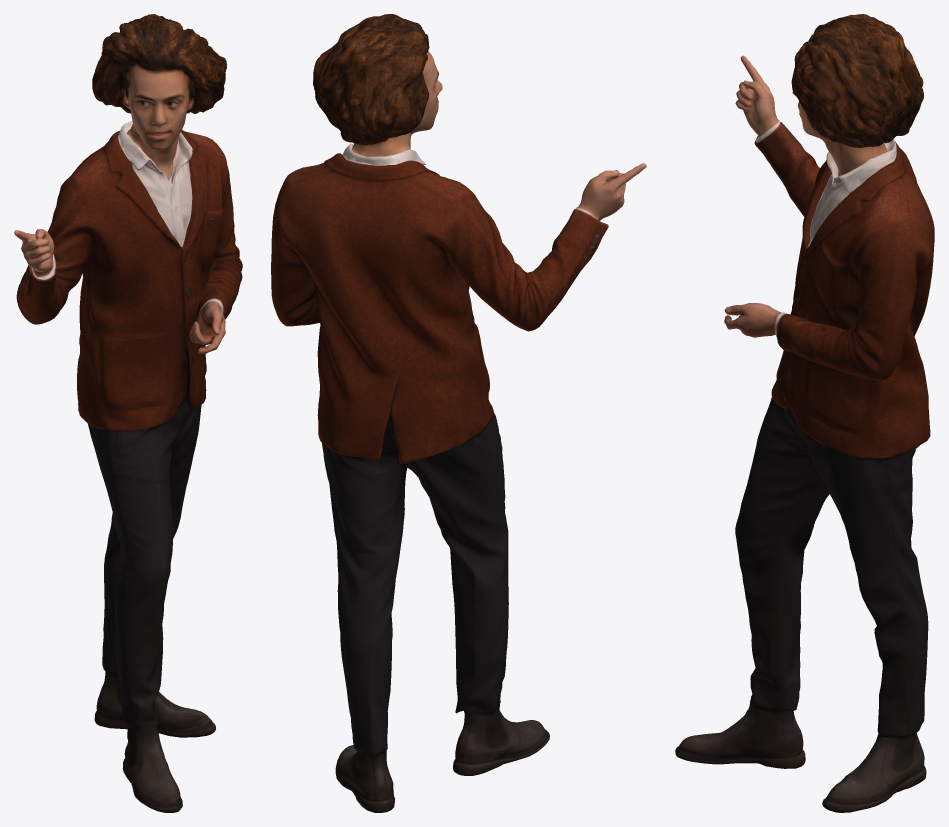
File: profe.fbx
The picture shows the model from 3 angles, left to right: view 1: azimuth 30°, elevation 25°; view 2: azimuth 150°, elevation 25°; view 3: azimuth 270°, elevation 25°; orthographic projection. The views are drawn at different scales.
Parts seen in each view (by area): view 1: Object_2; view 2: Object_2; view 3: Object_2.
Boxes of the visible parts, bbox=[...] form: Object_2: bbox=[14, 14, 242, 812]; Object_2: bbox=[271, 14, 646, 812]; Object_2: bbox=[675, 14, 934, 812].
Bounding box in the file's own units: 2954 × 7064 × 2161.
